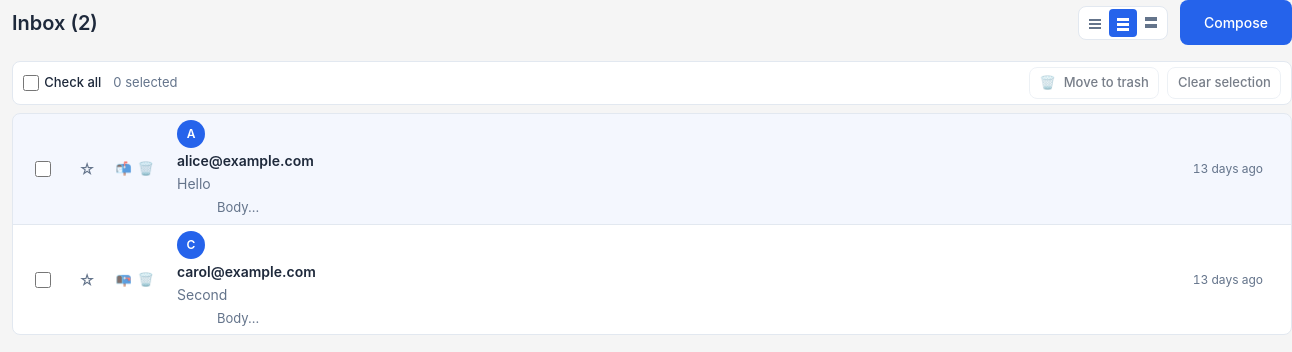
Test case: mailbox selection and message open zone › selects several rows independently without opening the message
Click the 1st checkbox with class "row-checkbox" at (43, 169), box [35, 161, 51, 177]
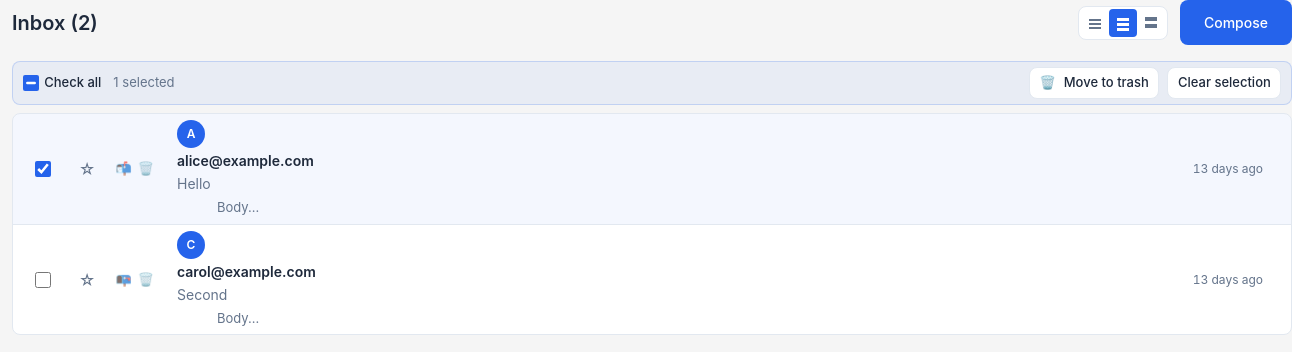
Click the 2nd checkbox with class "row-checkbox" at (43, 280), box [35, 272, 51, 288]
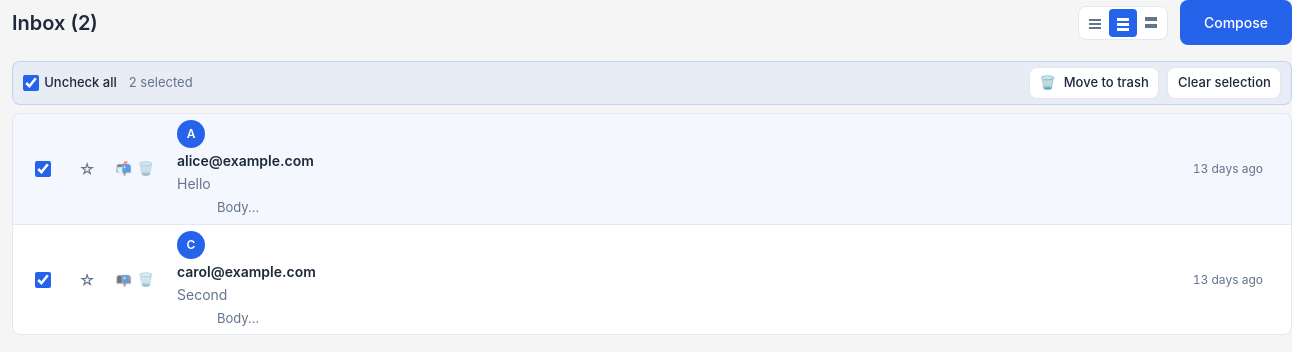
Expected: the 1st checkbox with class "row-checkbox" is checked
Expected: the 2nd checkbox with class "row-checkbox" is checked, [35, 272, 51, 288]
Expected: the text "2 selected" is shown, [129, 73, 193, 93]
Click the 1st checkbox with class "row-checkbox" at (43, 169), box [35, 161, 51, 177]
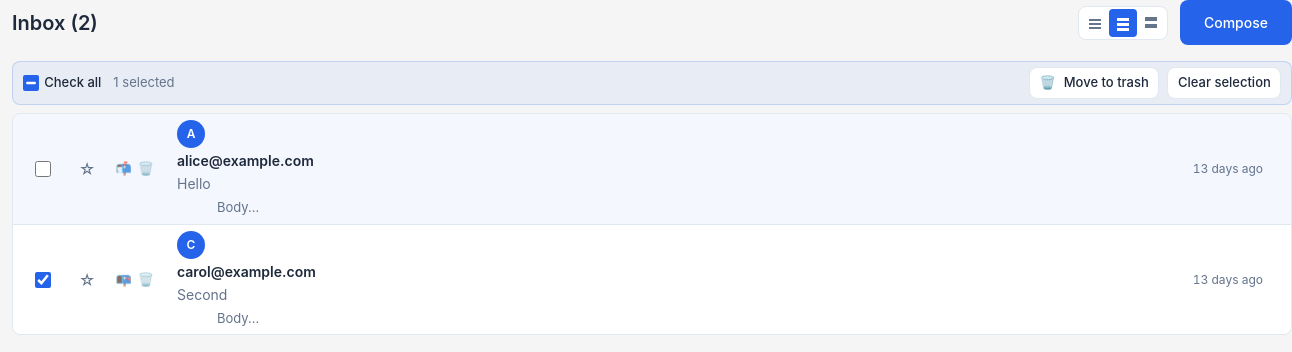
Expected: the 1st checkbox with class "row-checkbox" is not checked, [35, 161, 51, 177]
Expected: the 2nd checkbox with class "row-checkbox" is checked, [35, 272, 51, 288]
Expected: the text "1 selected" is shown, [113, 73, 175, 93]
